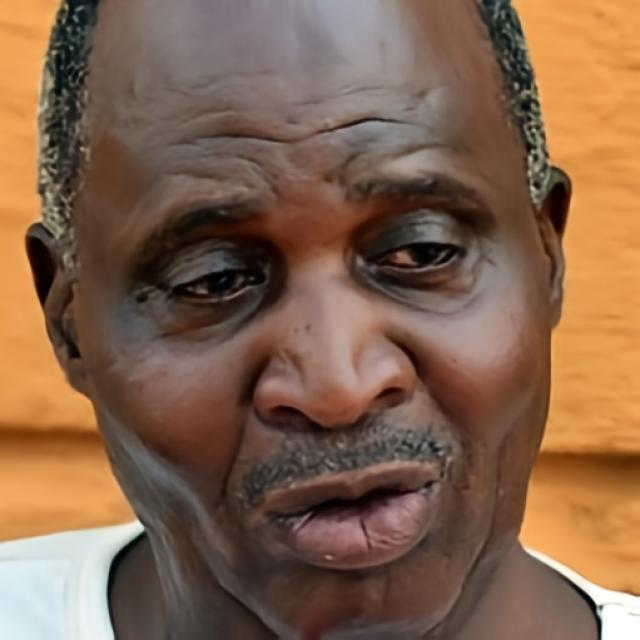disgust: (70, 0, 552, 640)
